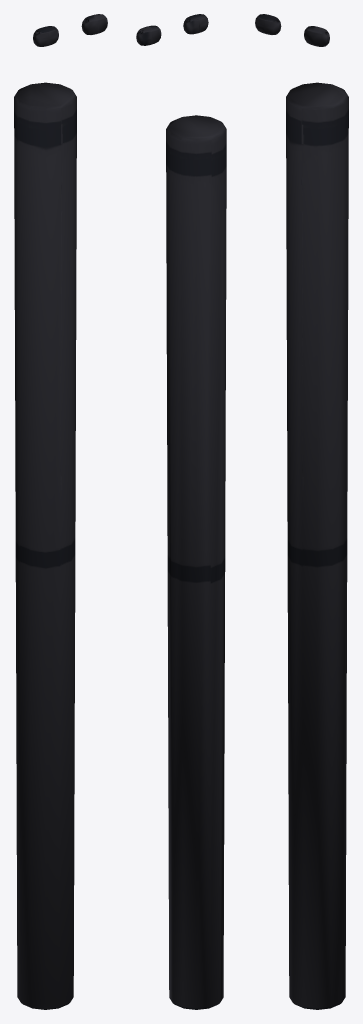
The model's file is Mascarada_Baston.fbx.
The picture shows the model from 3 angles, left to right: view 1: azimuth 30°, elevation 25°; view 2: azimuth 210°, elevation 25°; view 3: azimuth 330°, elevation 25°; orthographic projection. The views are drawn at different scales.
Parts seen in each view (by area): view 1: Mascarada_Baston; view 2: Mascarada_Baston; view 3: Mascarada_Baston.
Boxes of the visible parts, box(x1,y1,x2,y2) form: Mascarada_Baston: box(14, 14, 107, 1009); Mascarada_Baston: box(136, 14, 226, 1009); Mascarada_Baston: box(255, 14, 348, 1009).
Size of the model in its own units: 0.1815 by 2.37 by 0.1893.
